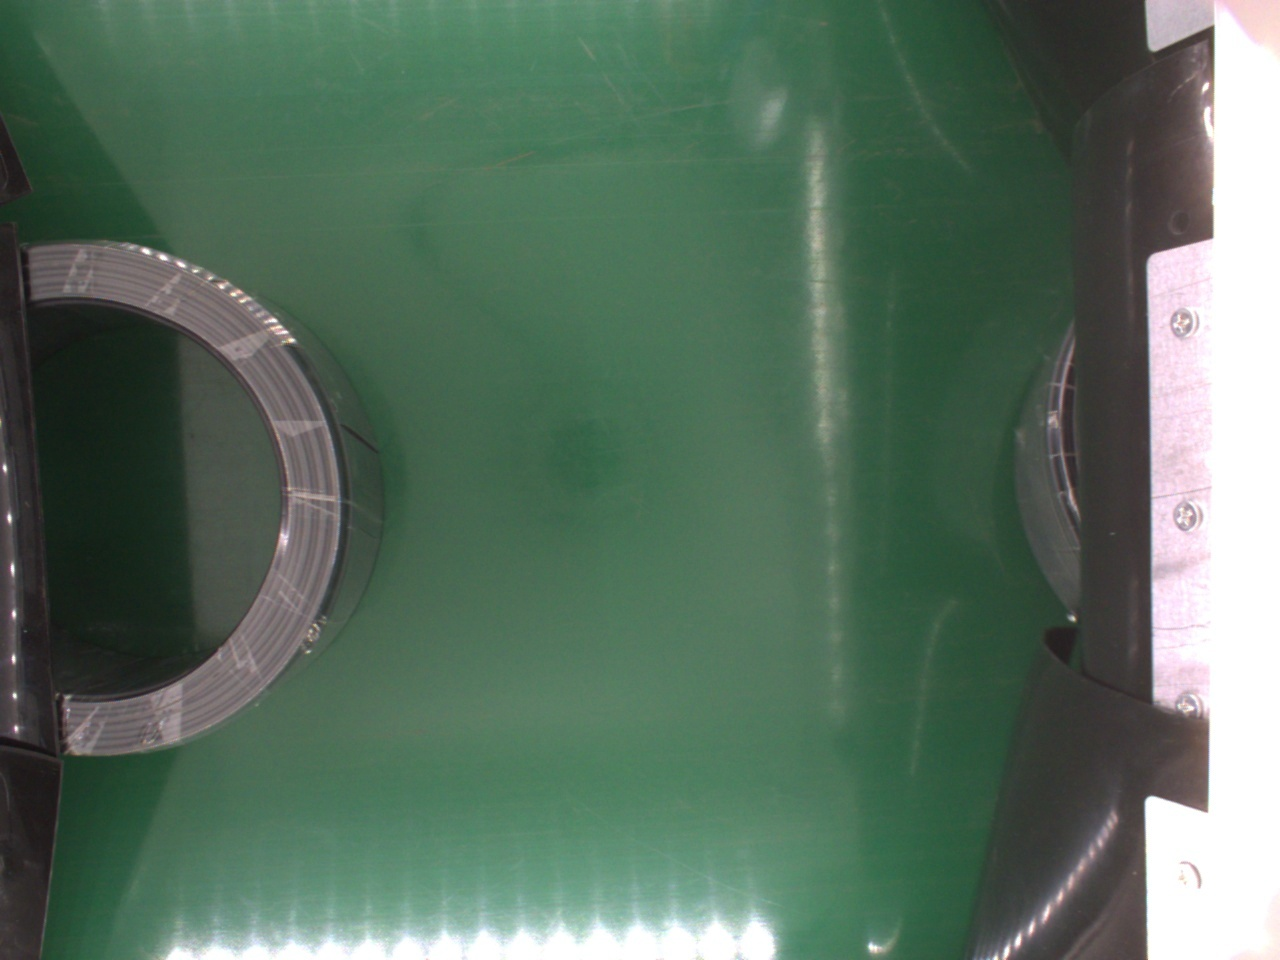black: (29, 240, 389, 764)
